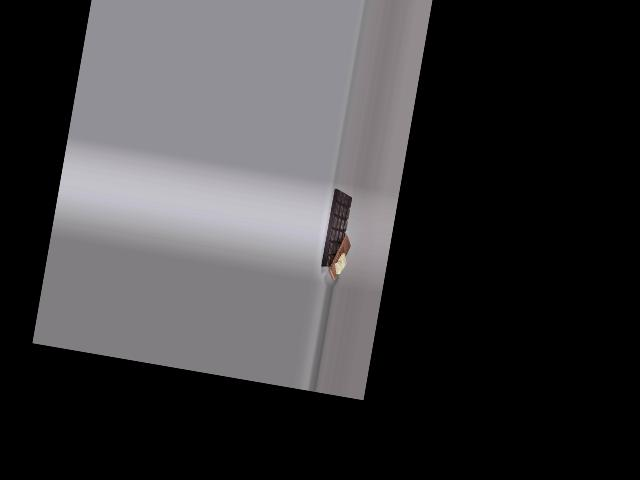chocolate: (317, 187, 356, 274)
